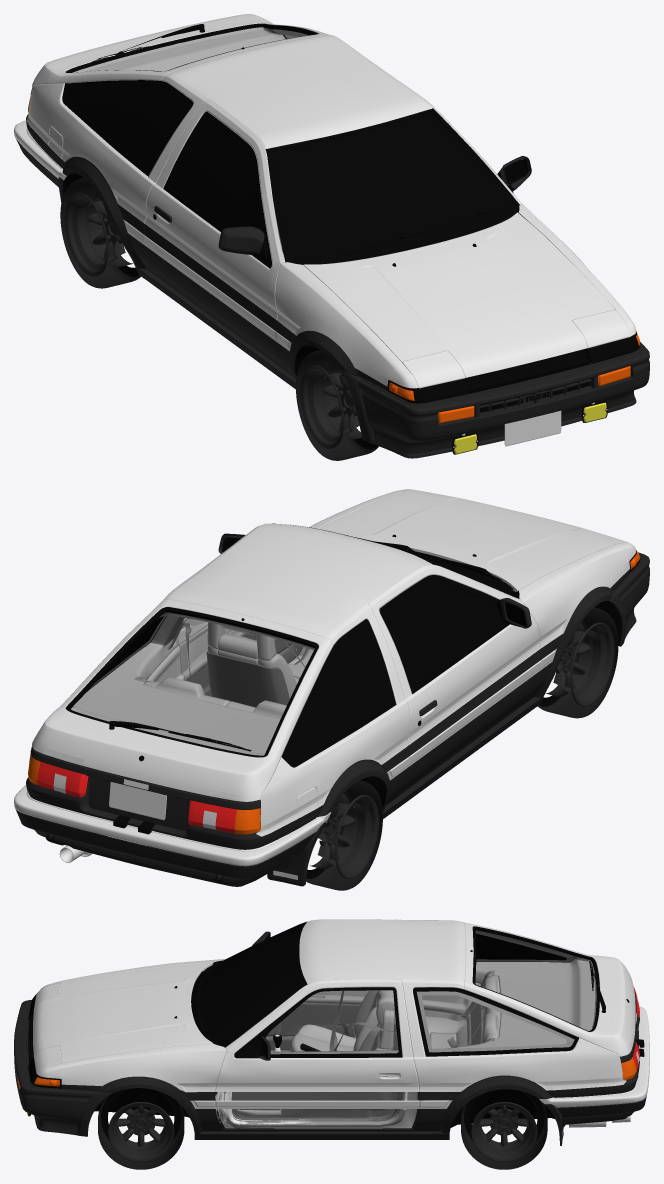
The model's file is toyota_ae86_classic_jdm_drift_car.glb.
3 renders of one model, top to bottom at view 1: azimuth 30°, elevation 25°; view 2: azimuth 150°, elevation 25°; view 3: azimuth 270°, elevation 25°, orthographic. The views are drawn at different scales.
Visible parts, largest first — view 1: GEO_body.004, parabrisa, GEO_intdoorR_SUB4.001, Roda5.004, Roda5.001, GEO_headlightL_SUB2, GEO_interiors_SUB5.001, GEO_intdoorL_SUB2.001; view 2: GEO_body.004, GEO_intdoorR_SUB4.001, GEO_interiors_SUB5.001, Roda5.001, Roda5.004, GEO_intLeftSeat_SUB1.002, GEO_intdoorL_SUB2.001, GEO_intLeftSeat_SUB2.001, GEO_intLeftSeat_SUB3.002, parabrisa; view 3: GEO_body.004, GEO_intdoorL_SUB2.001, GEO_interiors_SUB5.001, parabrisa, Roda5.003, Roda5.002, GEO_intdoorR_SUB4.001, GEO_intRightSeat_SUB0.001, GEO_headlightL_SUB2, GEO_intLeftSeat_SUB2.001, GEO_intRightSeat_SUB3.001, GEO_intLeftSeat_SUB3.002.
Boxes of the visible parts, box(x1,y1,x2,y2) form: GEO_body.004: box(14, 14, 649, 458); parabrisa: box(272, 113, 514, 259); GEO_intdoorR_SUB4.001: box(144, 99, 285, 368); Roda5.004: box(296, 350, 378, 460); Roda5.001: box(60, 178, 140, 288); GEO_headlightL_SUB2: box(402, 310, 634, 403); GEO_interiors_SUB5.001: box(73, 27, 308, 72); GEO_intdoorL_SUB2.001: box(368, 61, 531, 204); GEO_body.004: box(14, 489, 649, 886); GEO_intdoorR_SUB4.001: box(368, 564, 541, 794); GEO_interiors_SUB5.001: box(70, 589, 515, 755); Roda5.001: box(306, 780, 382, 890); Roda5.004: box(537, 607, 618, 718); GEO_intLeftSeat_SUB1.002: box(206, 651, 289, 707); GEO_intdoorL_SUB2.001: box(178, 525, 291, 696); GEO_intLeftSeat_SUB2.001: box(207, 622, 276, 660); GEO_intLeftSeat_SUB3.002: box(207, 646, 296, 698); parabrisa: box(357, 537, 512, 595); GEO_body.004: box(14, 919, 649, 1145); GEO_intdoorL_SUB2.001: box(215, 979, 419, 1129); GEO_interiors_SUB5.001: box(203, 930, 596, 1126); parabrisa: box(200, 925, 302, 1044); Roda5.003: box(98, 1088, 184, 1169); Roda5.002: box(461, 1090, 547, 1169); GEO_intdoorR_SUB4.001: box(227, 919, 400, 1036); GEO_intRightSeat_SUB0.001: box(290, 1024, 355, 1051); GEO_headlightL_SUB2: box(28, 982, 61, 1082); GEO_intLeftSeat_SUB2.001: box(376, 990, 395, 1049); GEO_intRightSeat_SUB3.001: box(353, 990, 378, 1050); GEO_intLeftSeat_SUB3.002: box(359, 1026, 393, 1050).
Size of the model in its own units: 1.83 by 1.27 by 4.19.
